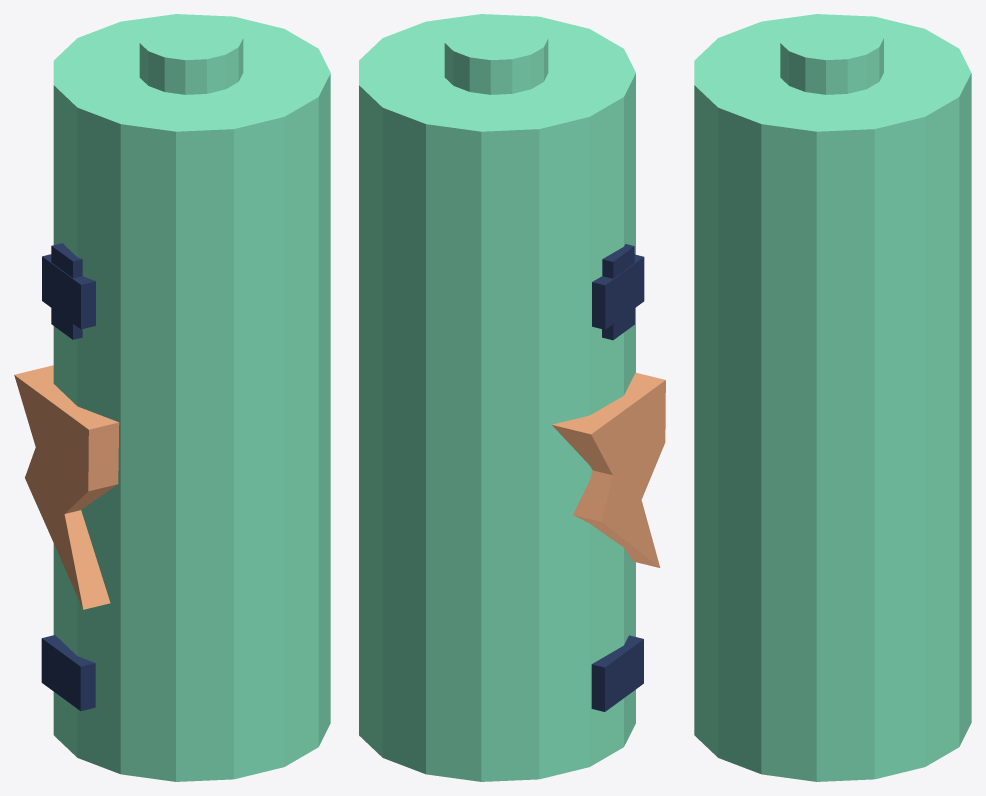
The model's file is bateria cikitablend.fbx.
3 renders of one model, left to right at view 1: azimuth 30°, elevation 25°; view 2: azimuth 150°, elevation 25°; view 3: azimuth 270°, elevation 25°, orthographic.
Visible parts, largest first — view 1: Cilindro.001, Cilindro, Cubo.002, Cubo.001; view 2: Cilindro.001, Cilindro, Cubo.002, Cubo.001; view 3: Cilindro.001.
Part boxes in pixels (bbox=[...]): Cilindro.001: bbox=[53, 14, 330, 781]; Cilindro: bbox=[14, 365, 119, 609]; Cubo.002: bbox=[42, 243, 95, 339]; Cubo.001: bbox=[41, 635, 95, 710]; Cilindro.001: bbox=[359, 14, 635, 781]; Cilindro: bbox=[552, 372, 665, 567]; Cubo.002: bbox=[592, 244, 644, 340]; Cubo.001: bbox=[591, 635, 643, 711]; Cilindro.001: bbox=[694, 14, 971, 781].
Bounding box in the file's own units: 22.8 × 58.18 × 21.33.
